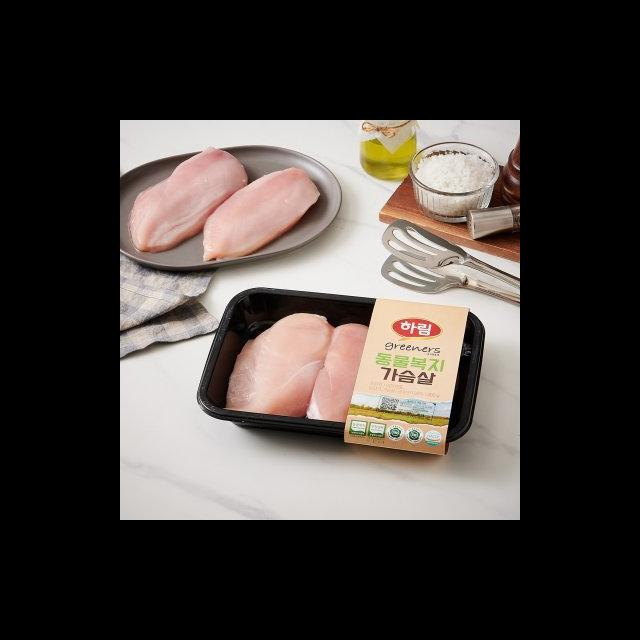chicken: (129, 146, 247, 252), (202, 165, 321, 262), (227, 311, 330, 418)
